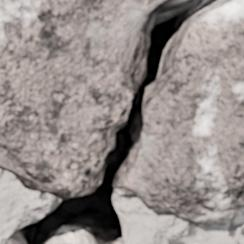broken_brick: (0, 0, 161, 198), (115, 0, 243, 226)
crack: (0, 0, 242, 243)
